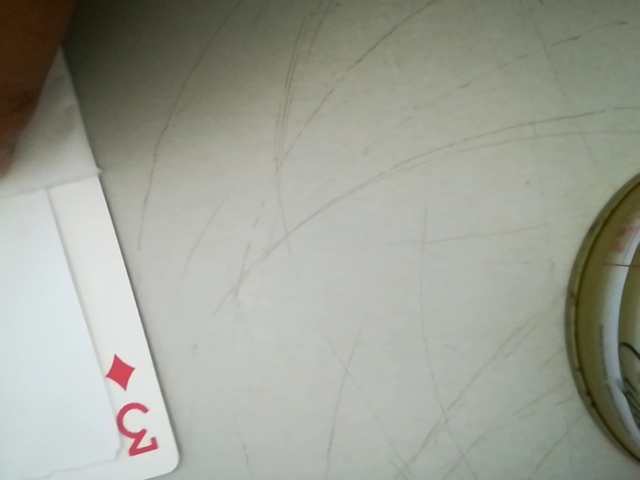fk 3: (96, 340, 169, 466)
